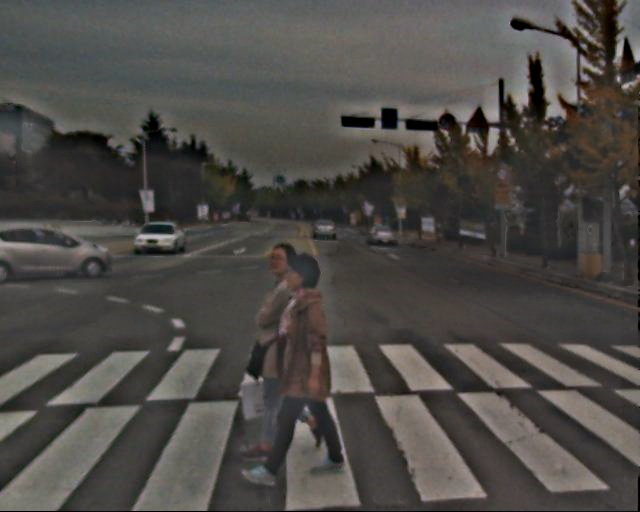person: (251, 252, 348, 483), (242, 236, 325, 455)
